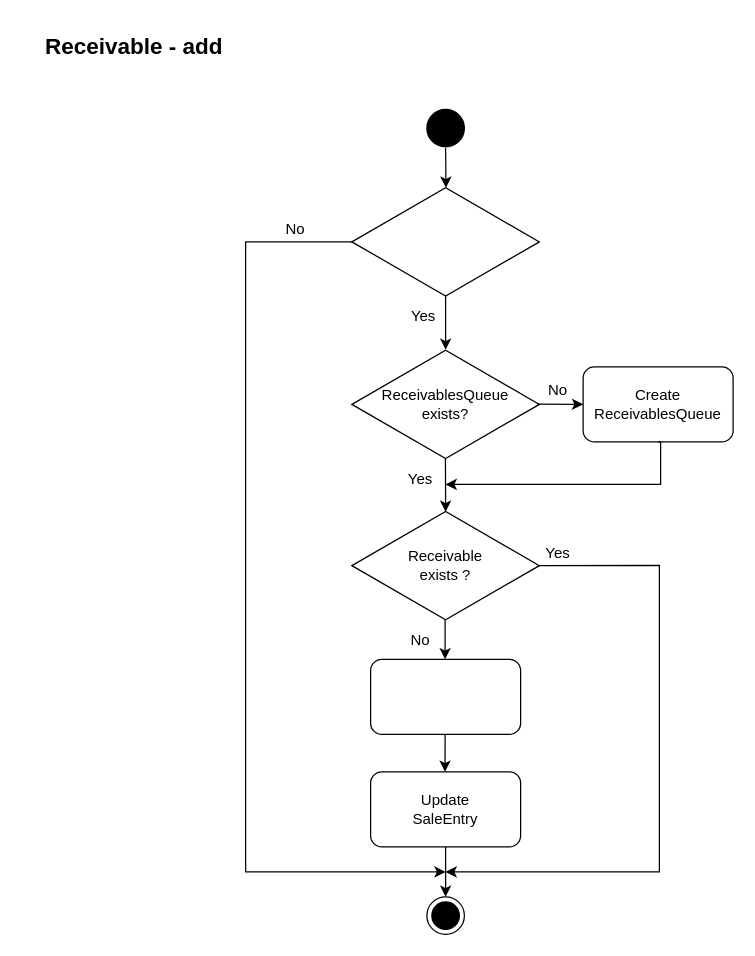
The diagram is 755 pixels wide and 956 high, and some of its shapes have lost their labels. The shapes that lost their labels are listed below. From the top down, each one's centre as x and y in pixels, then its label:
[445,241]: Sale Entry exists?
[445,696]: Create receivable
